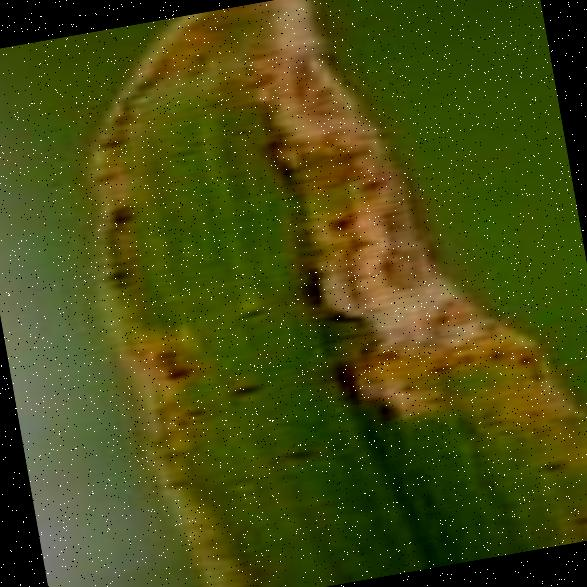Bacteria_Leaf_Blight: (48, 0, 504, 587)
